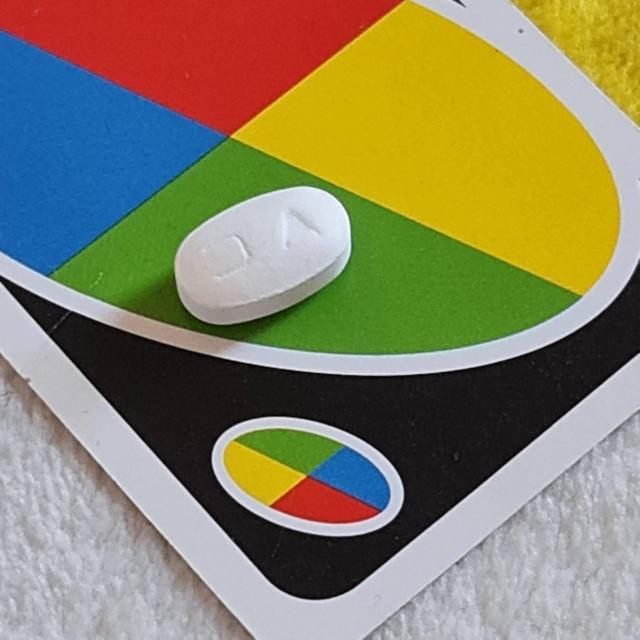pill: (175, 188, 348, 325)
